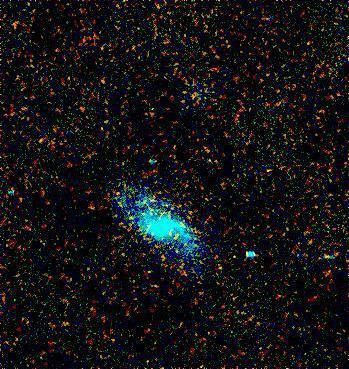star: (77, 193, 107, 223)
